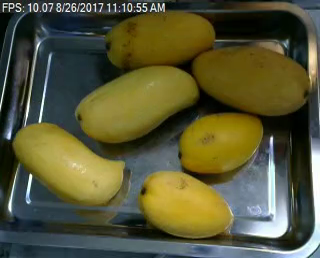Mango: (7, 119, 128, 208), (72, 65, 201, 145), (191, 43, 313, 118), (98, 9, 214, 69), (137, 169, 235, 237), (175, 107, 266, 175)
